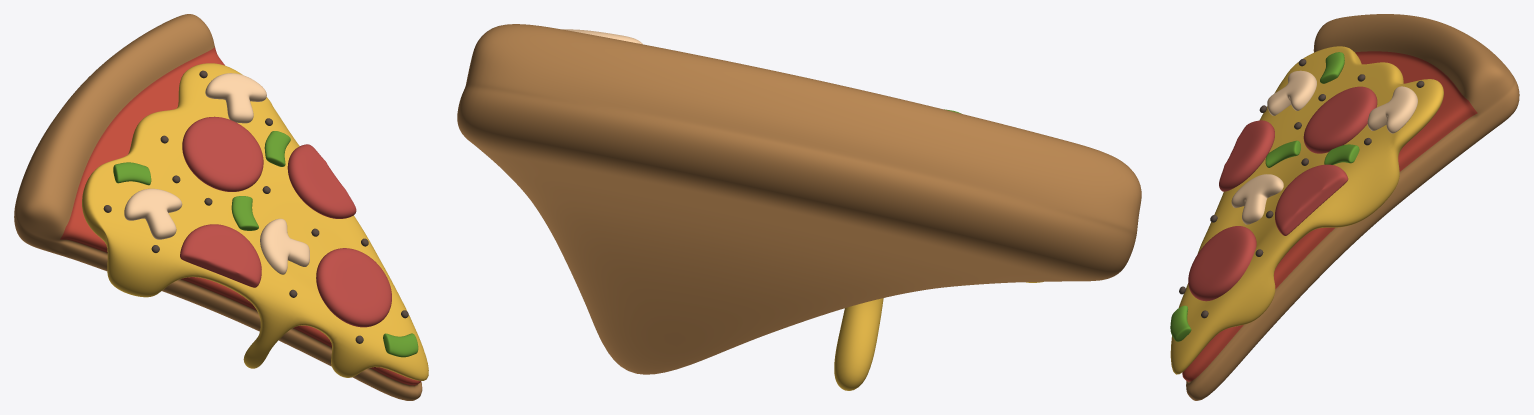
The model's file is Pizza.fbx.
The picture shows the model from 3 angles, left to right: view 1: azimuth 30°, elevation 25°; view 2: azimuth 150°, elevation 25°; view 3: azimuth 270°, elevation 25°; orthographic projection. The views are drawn at different scales.
Visible parts, largest first — view 1: pizza_cheese.001_Circle.355, pizza_base.001_Circle.354, topping1.001_Circle.361, topping2.001_Circle.362, topping3.001_Circle.363, topping4.001_Circle.364; view 2: pizza_base.001_Circle.354, pizza_cheese.001_Circle.355; view 3: pizza_base.001_Circle.354, pizza_cheese.001_Circle.355, topping1.001_Circle.361, topping2.001_Circle.362, topping3.001_Circle.363, topping4.001_Circle.364.
Part boxes in pixels (x1,y1,x2,y2): pizza_cheese.001_Circle.355: (82, 63, 428, 380); pizza_base.001_Circle.354: (14, 14, 422, 400); topping1.001_Circle.361: (180, 116, 391, 327); topping2.001_Circle.362: (124, 73, 309, 274); topping3.001_Circle.363: (113, 131, 418, 357); topping4.001_Circle.364: (103, 70, 408, 343); pizza_base.001_Circle.354: (457, 24, 1141, 374); pizza_cheese.001_Circle.355: (834, 281, 1043, 390); pizza_base.001_Circle.354: (1182, 14, 1519, 400); pizza_cheese.001_Circle.355: (1170, 46, 1443, 374); topping1.001_Circle.361: (1188, 86, 1377, 301); topping2.001_Circle.362: (1231, 70, 1417, 224); topping3.001_Circle.363: (1170, 52, 1359, 341); topping4.001_Circle.364: (1179, 59, 1424, 318).
Size of the model in its own units: 211 by 181 by 192.
